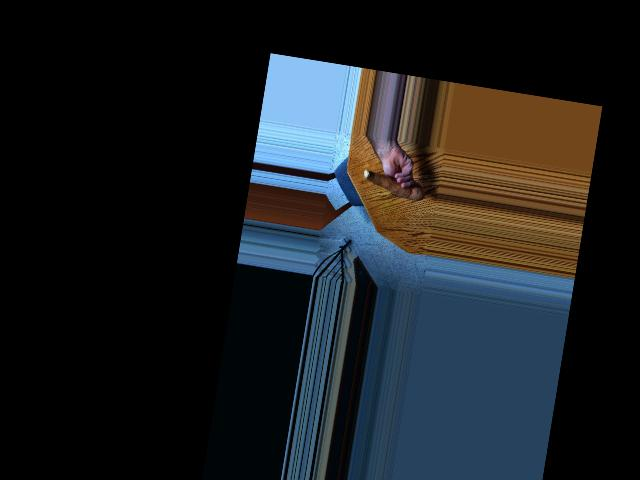sweet_potato: (363, 167, 424, 204)
